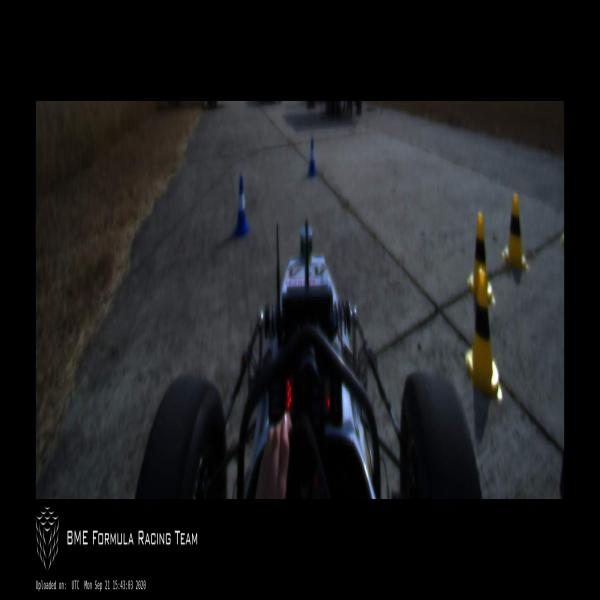blue_cone: (233, 177, 249, 238), (308, 137, 318, 177)
yellow_cone: (466, 270, 503, 402), (467, 213, 496, 306), (502, 195, 528, 270)
